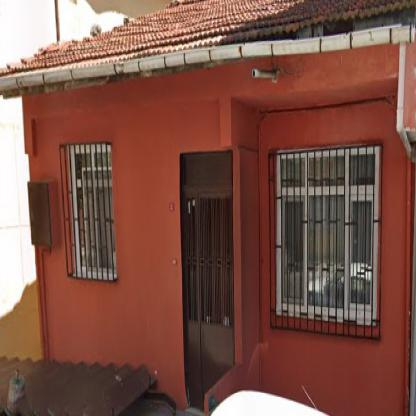door: (183, 182, 234, 410)
window: (280, 155, 375, 313), (75, 152, 114, 272)
